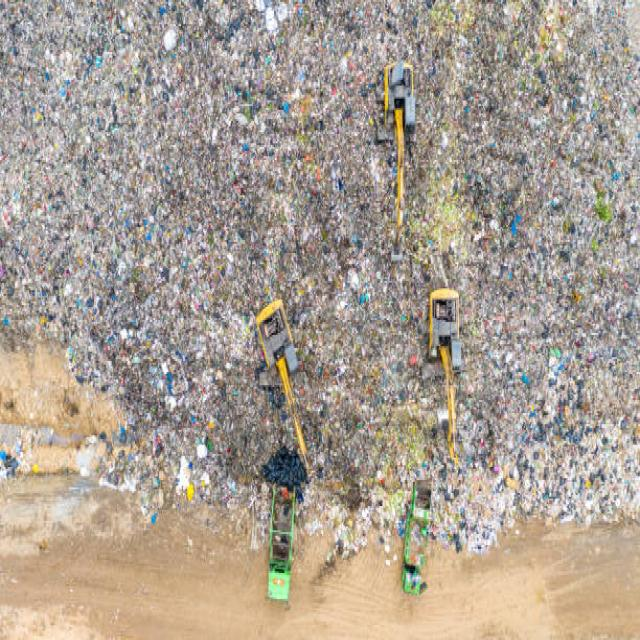trash: (19, 19, 622, 502)
